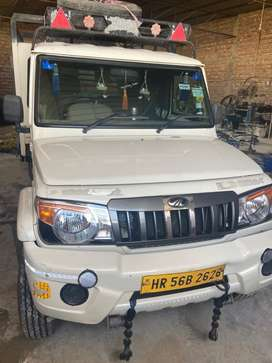HR56B2626: (140, 264, 224, 295)
